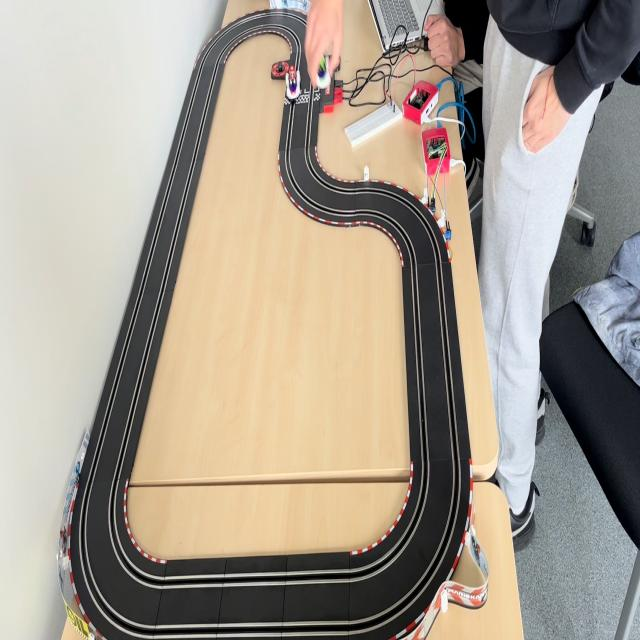mario: (286, 65, 302, 102)
yoshi: (314, 52, 332, 92)
